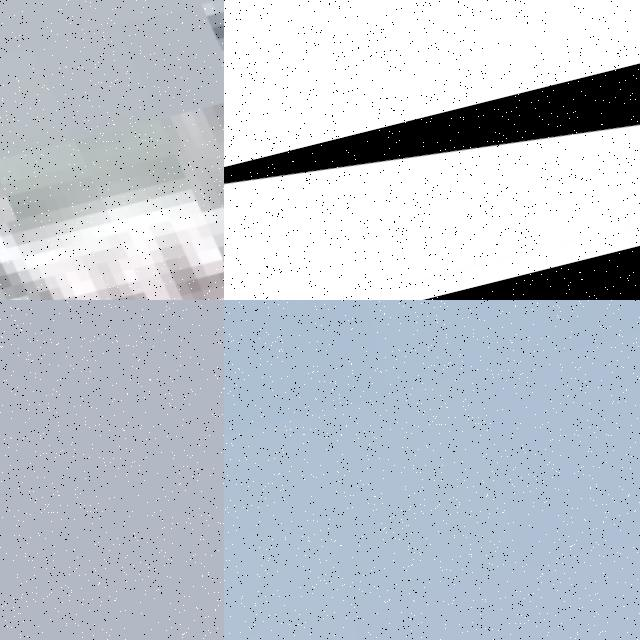0: (0, 0, 224, 300)
drone: (224, 51, 640, 300)
